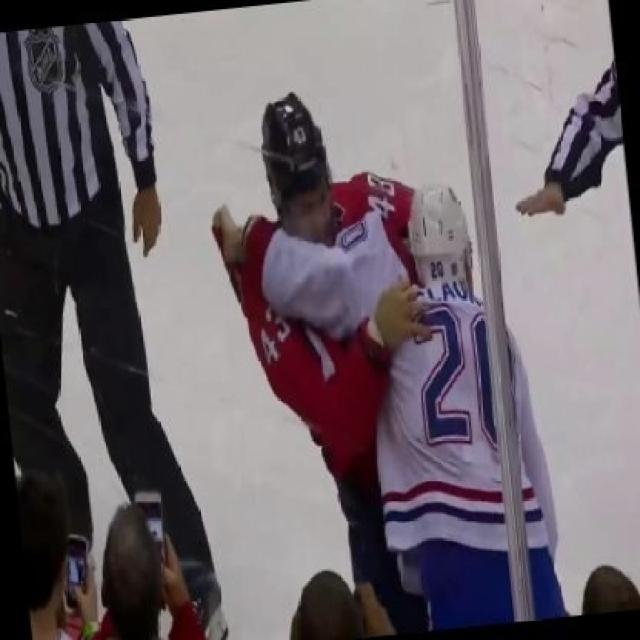fight: (208, 82, 569, 638)
non-fight: (0, 0, 215, 638)
